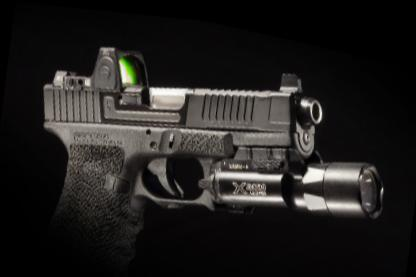pistol: (19, 1, 402, 275)
